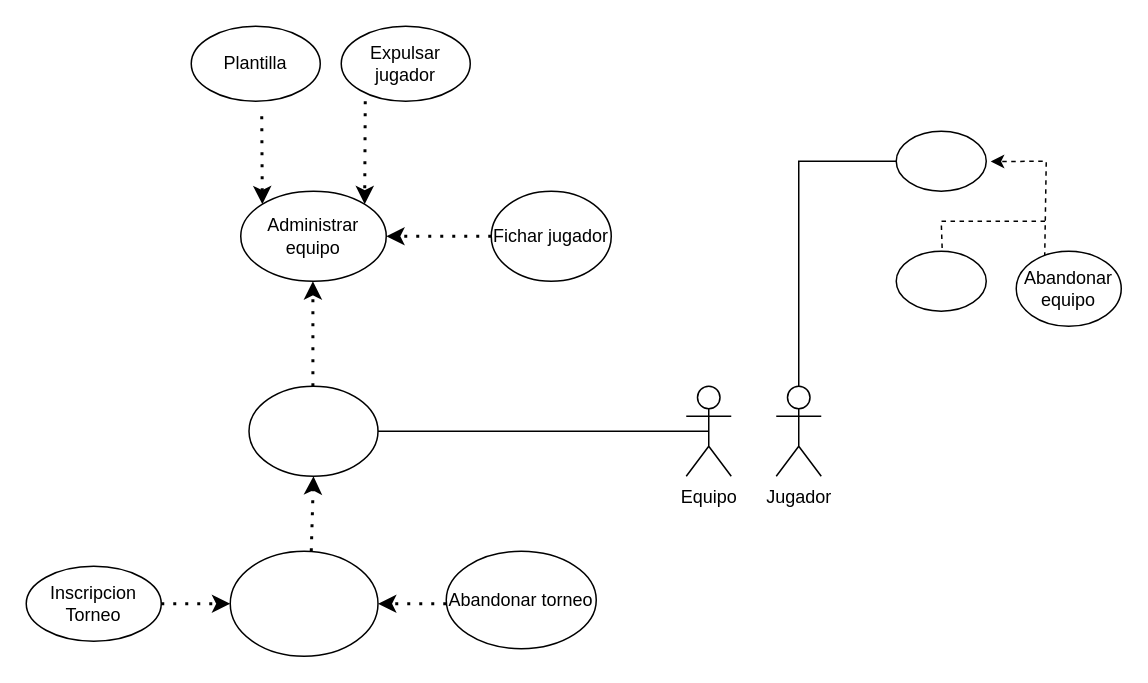
Some shapes in this 1148 by 683 pixel diagram are drawn without their labels. The shapes that lost their labels are listed below. From the top down, each one's box as (x1, y1, x2, y2) in pixels, then its label:
(895, 130, 986, 191): Login
(895, 250, 986, 311): Unirse Equipo
(248, 385, 378, 476): Registro
(229, 550, 378, 656): Administrar Torneos del equipo
